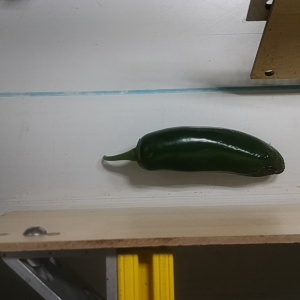Cut Point: (128, 132, 156, 173)
